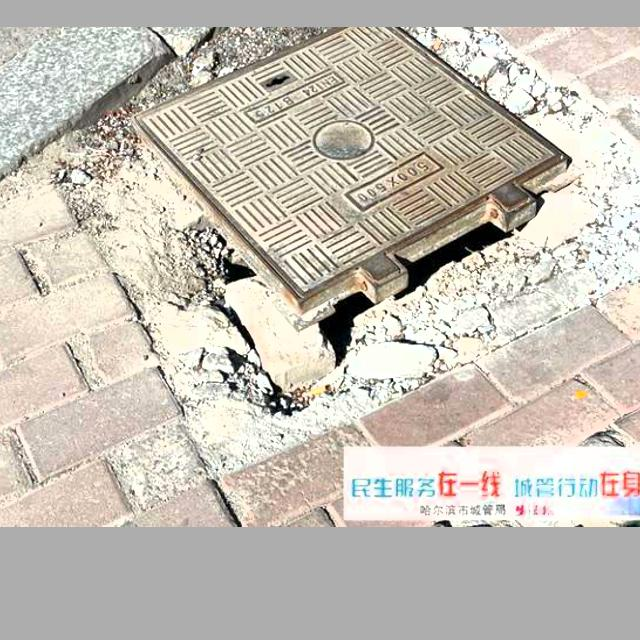circle: (56, 35, 640, 425)
